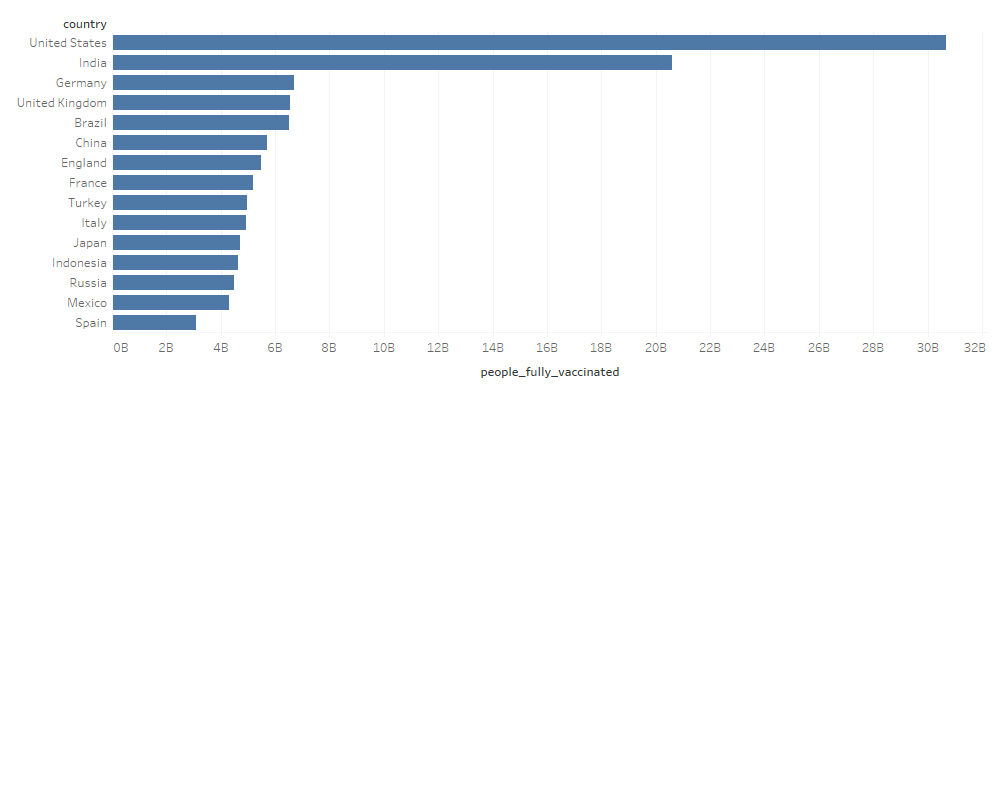

Layout of this report page (visuals, bound fields, positions):
{"tool":"tableau","page":{"name":"Dashboard 1","canvas":[1000,800],"ordinal":0},"visuals":[{"type":"worksheet","title":"Sheet 7","mark":"Automatic","rows":["country"],"cols":["people_fully_vaccinated"],"box":[8,8,984,784]}]}

Visuals, with their boxes in screenshot pixels (x1, y1, x2, y2), scaled from the page's 1000x800 canvas onto the 1000x800 screenshot:
"Sheet 7" worksheet: Rect(8, 8, 992, 792)
